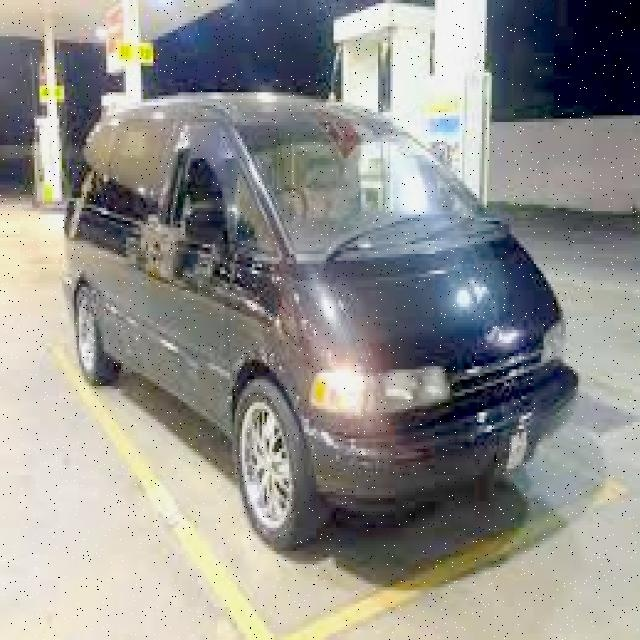Van: (59, 96, 578, 554)
